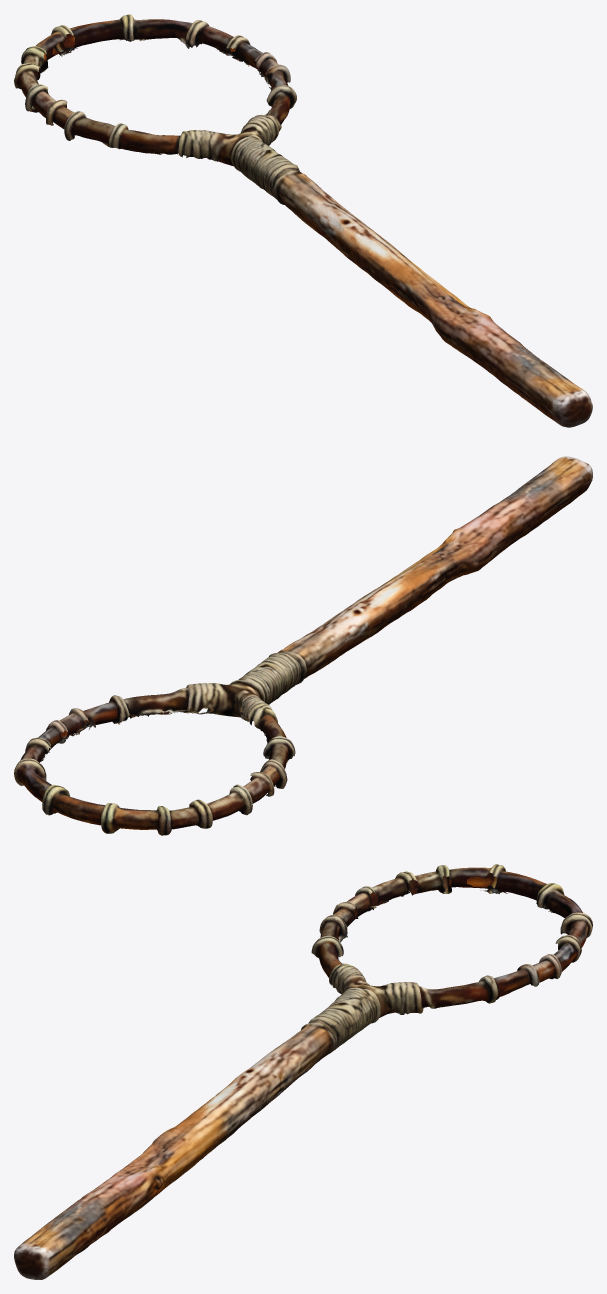
The model's file is dip_net_frame.glb.
The picture shows the model from 3 angles, top to bottom: view 1: azimuth 30°, elevation 25°; view 2: azimuth 150°, elevation 25°; view 3: azimuth 330°, elevation 25°; orthographic projection.
Visible parts, largest first — view 1: User_DipnetFrameOnly; view 2: User_DipnetFrameOnly; view 3: User_DipnetFrameOnly.
Part boxes in pixels (bbox=[...]): User_DipnetFrameOnly: bbox=[14, 14, 592, 427]; User_DipnetFrameOnly: bbox=[14, 456, 592, 835]; User_DipnetFrameOnly: bbox=[14, 864, 592, 1279].
Size of the model in its own units: 1.08 by 0.2311 by 4.08.
Materials: 1 (1 with a texture image).
